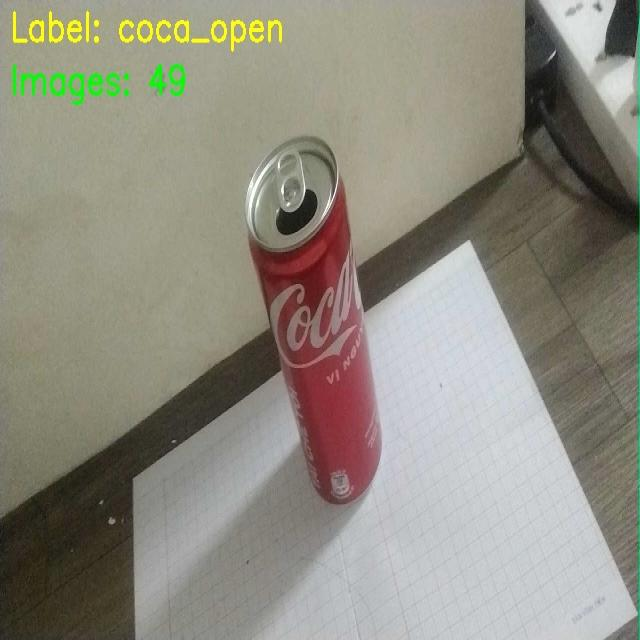Coca_open: (235, 132, 393, 510)
